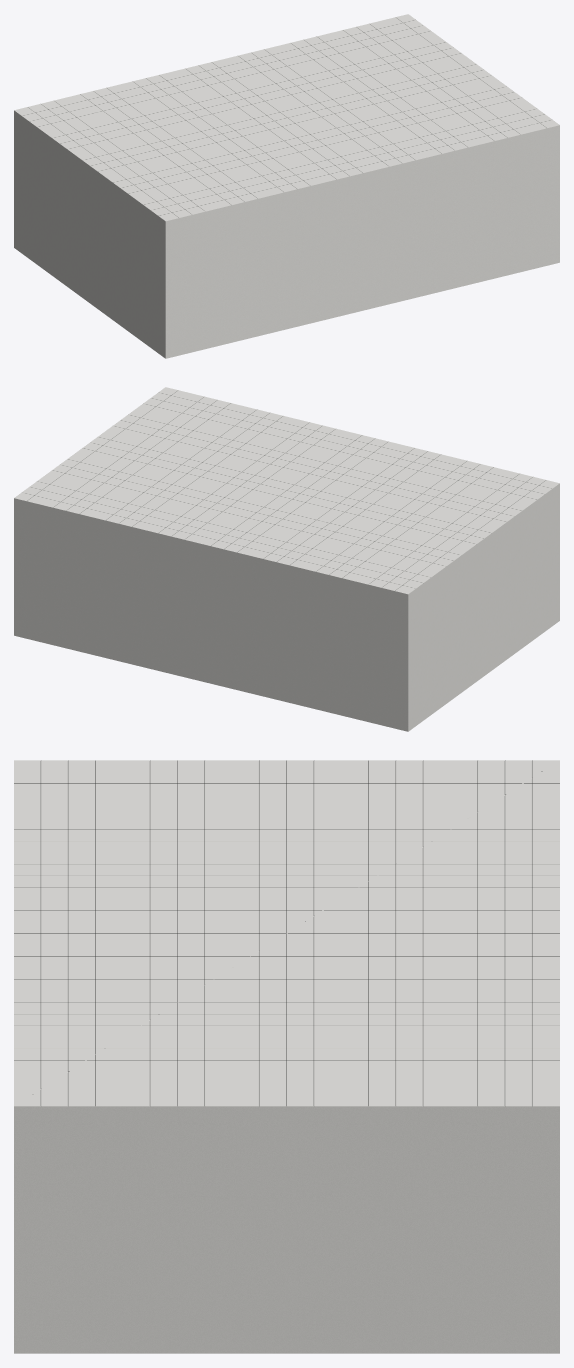
Rendered from scene_embedded.gltf.
3 views of the same model, one above another, from view 1: azimuth 30°, elevation 25°; view 2: azimuth 150°, elevation 25°; view 3: azimuth 270°, elevation 25° (orthographic). The views are drawn at different scales.
Parts seen in each view (by area): view 1: WhiteCube; view 2: WhiteCube; view 3: WhiteCube.
Boxes of the visible parts, <box> form: WhiteCube: <box>14,14,559,358</box>; WhiteCube: <box>14,387,559,731</box>; WhiteCube: <box>14,760,559,1353</box>.
Size of the model in its own units: 15 by 5 by 10.
4 materials, 4 textured.
